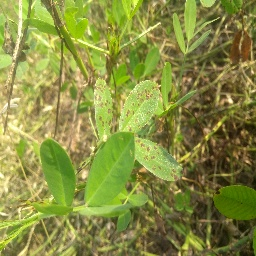GroundNut_Leaf: (83, 132, 136, 208), (37, 136, 77, 209), (119, 80, 163, 131), (138, 138, 184, 183), (212, 182, 256, 221), (91, 75, 116, 131), (172, 1, 198, 51), (145, 48, 162, 74)
